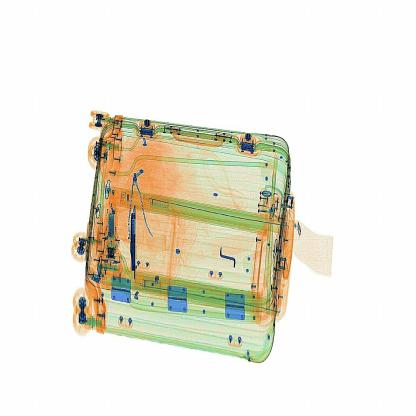pliers: (128, 199, 145, 276)
